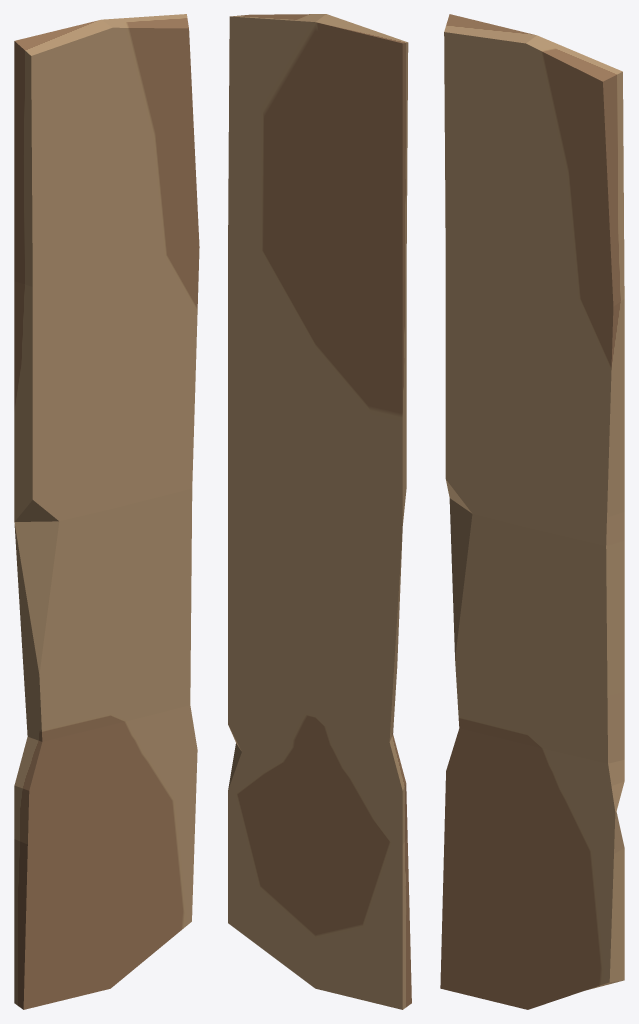
The model's file is SM_Plywood_Board_C.gltf.
The picture shows the model from 3 angles, left to right: view 1: azimuth 30°, elevation 25°; view 2: azimuth 150°, elevation 25°; view 3: azimuth 330°, elevation 25°; orthographic projection.
Parts seen in each view (by area): view 1: SM_Plywood_Board_C; view 2: SM_Plywood_Board_C; view 3: SM_Plywood_Board_C.
Boxes of the visible parts, x1,y1,x2,y2 form: SM_Plywood_Board_C: (14,14,199,1009); SM_Plywood_Board_C: (228,14,411,1009); SM_Plywood_Board_C: (440,14,624,1009).
Bounding box in the file's own units: 0.3784 × 2 × 0.0418.
1 material, 1 textured.
